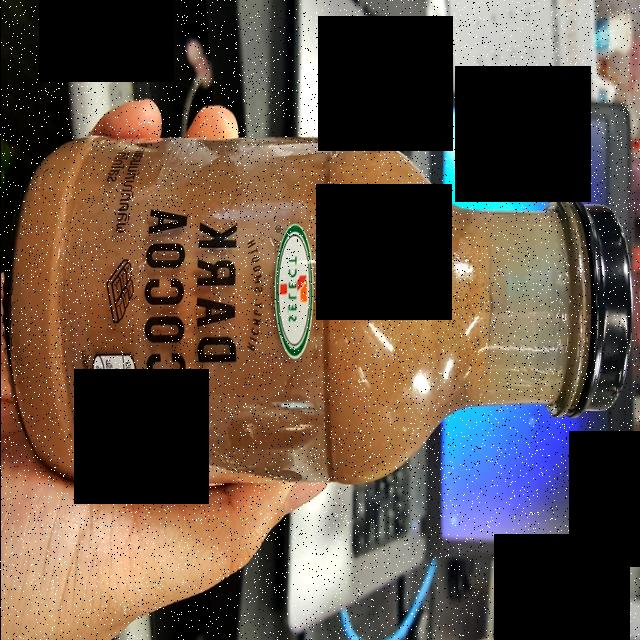glass-bottle: (2, 97, 640, 499)
